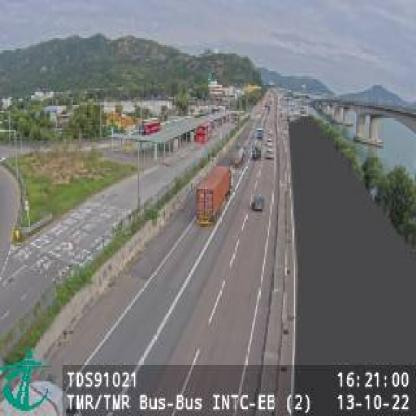Car: (252, 193, 265, 210), (265, 144, 273, 158), (250, 146, 258, 158)
Truck: (194, 165, 234, 228)
